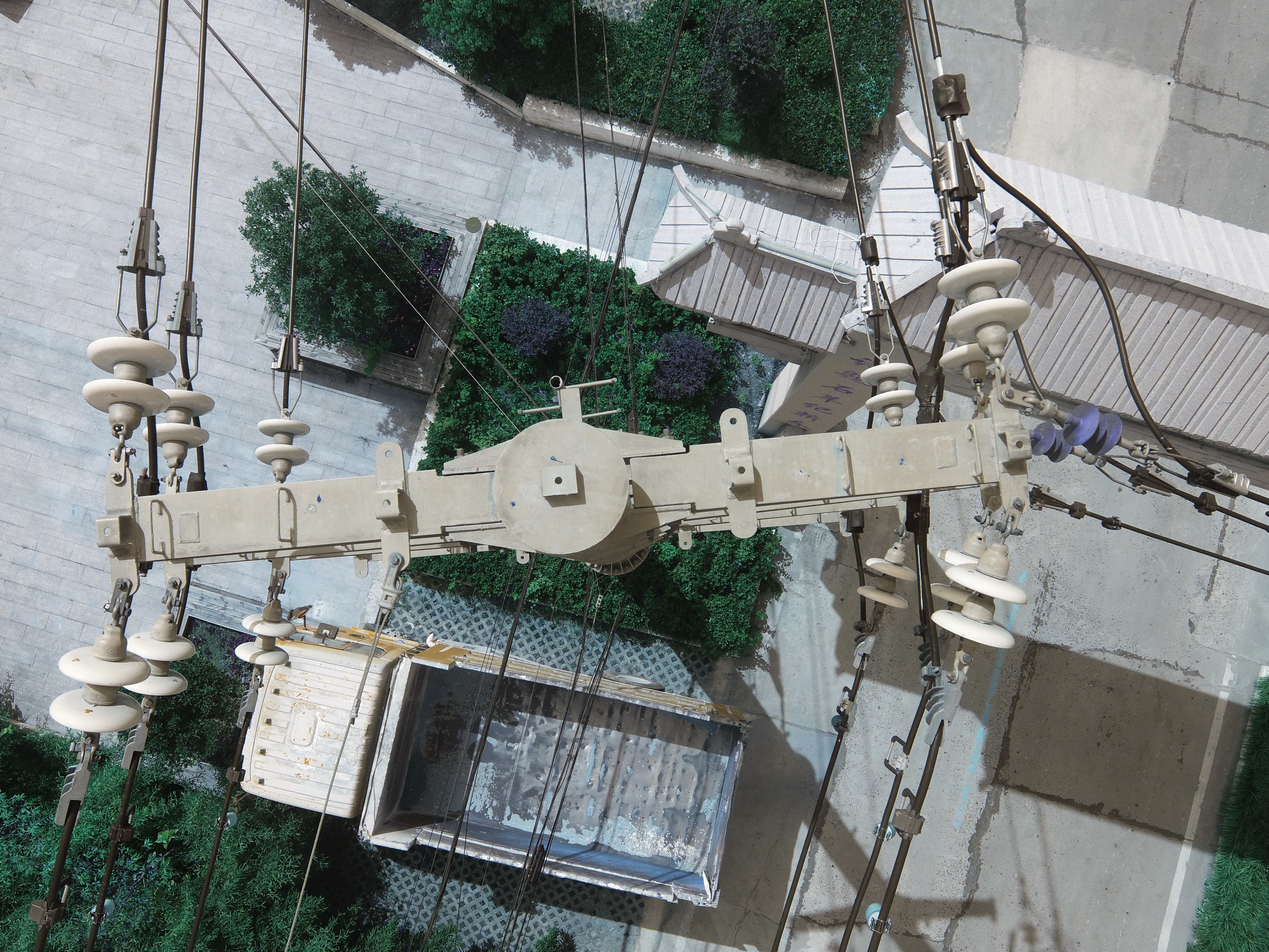severe_soiling_no_discharge_whole: (1060, 400, 1125, 459), (1027, 421, 1076, 465)
